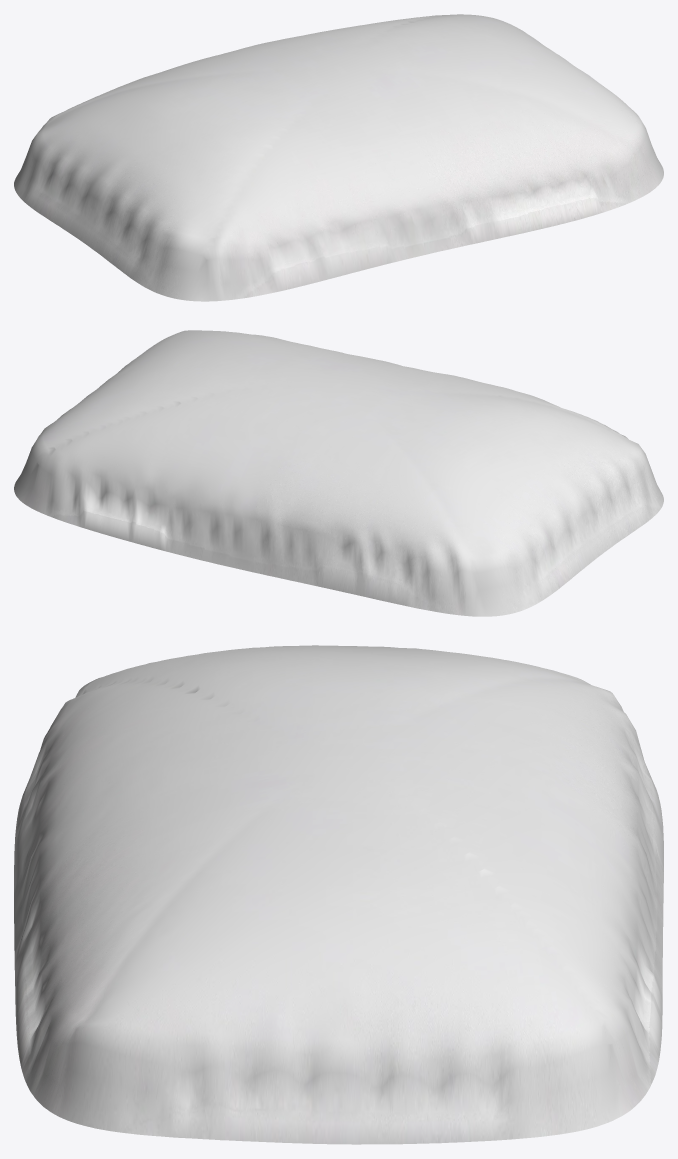
File: upper_textile-desktop.glb
3 renders of one model, top to bottom at view 1: azimuth 30°, elevation 25°; view 2: azimuth 150°, elevation 25°; view 3: azimuth 270°, elevation 25°, orthographic. The views are drawn at different scales.
Parts seen in each view (by area): view 1: upper_textile; view 2: upper_textile; view 3: upper_textile.
Boxes of the visible parts, x1,y1,x2,y2 form: upper_textile: [14, 14, 663, 301]; upper_textile: [14, 330, 663, 616]; upper_textile: [14, 645, 663, 1144].
Size of the model in its own units: 3.01 by 0.6304 by 2.
Materials: 1 (1 with a texture image).
